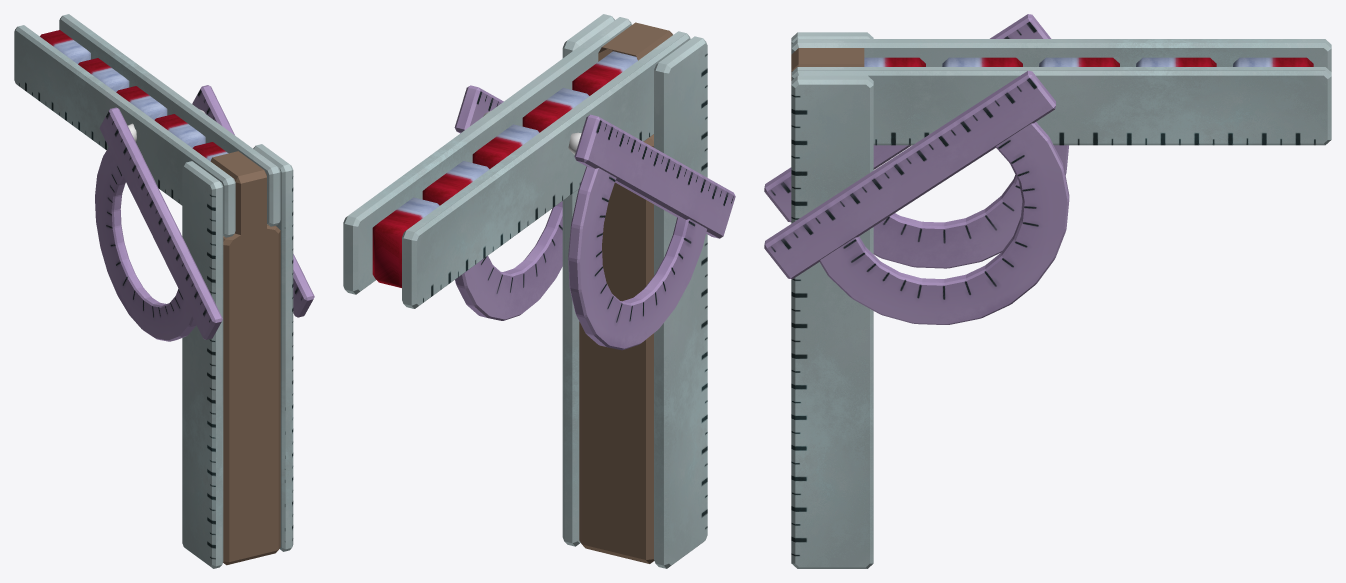
File: gun.fbx
3 views of the same model, side by side, from view 1: azimuth 30°, elevation 25°; view 2: azimuth 150°, elevation 25°; view 3: azimuth 270°, elevation 25° (orthographic). The views are drawn at different scales.
Visible parts, largest first — view 1: Cube, Cube.001, Cube.008, Cube.007, Cube.005; view 2: Cube.008, Cube.001, Cube.007, Cube, Cube.005; view 3: Cube.007, Cube.008, Cube.001, Cube.005, Cube.
Boxes of the visible parts, x1,y1,x2,y2 form: Cube: [210, 151, 280, 565]; Cube.001: [182, 144, 293, 568]; Cube.008: [14, 14, 280, 237]; Cube.007: [95, 85, 314, 341]; Cube.005: [40, 30, 228, 161]; Cube.008: [343, 17, 690, 308]; Cube.001: [562, 14, 707, 568]; Cube.007: [454, 85, 735, 350]; Cube: [579, 22, 672, 563]; Cube.005: [372, 51, 637, 287]; Cube.007: [764, 14, 1069, 324]; Cube.008: [791, 39, 1331, 145]; Cube.001: [791, 32, 873, 568]; Cube.005: [864, 57, 1313, 66]; Cube: [791, 48, 864, 80].
Size of the model in its own units: 78.5 by 290 by 297.
5 materials, 3 textured.
